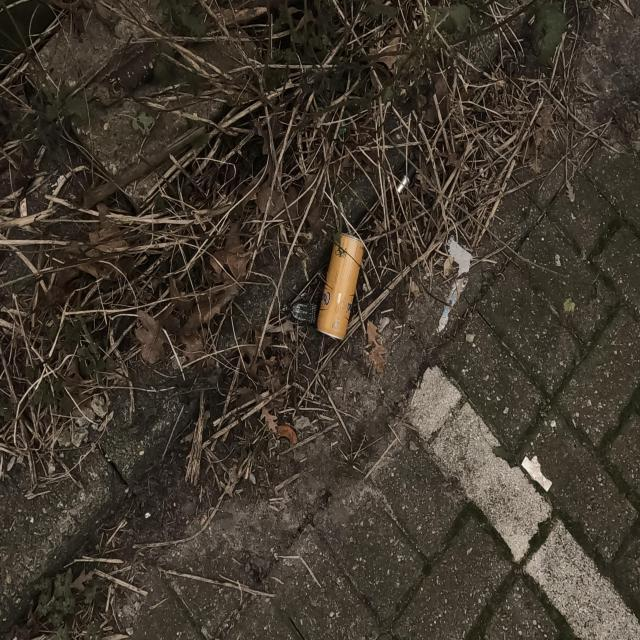Can-Metal: (314, 230, 368, 344)
